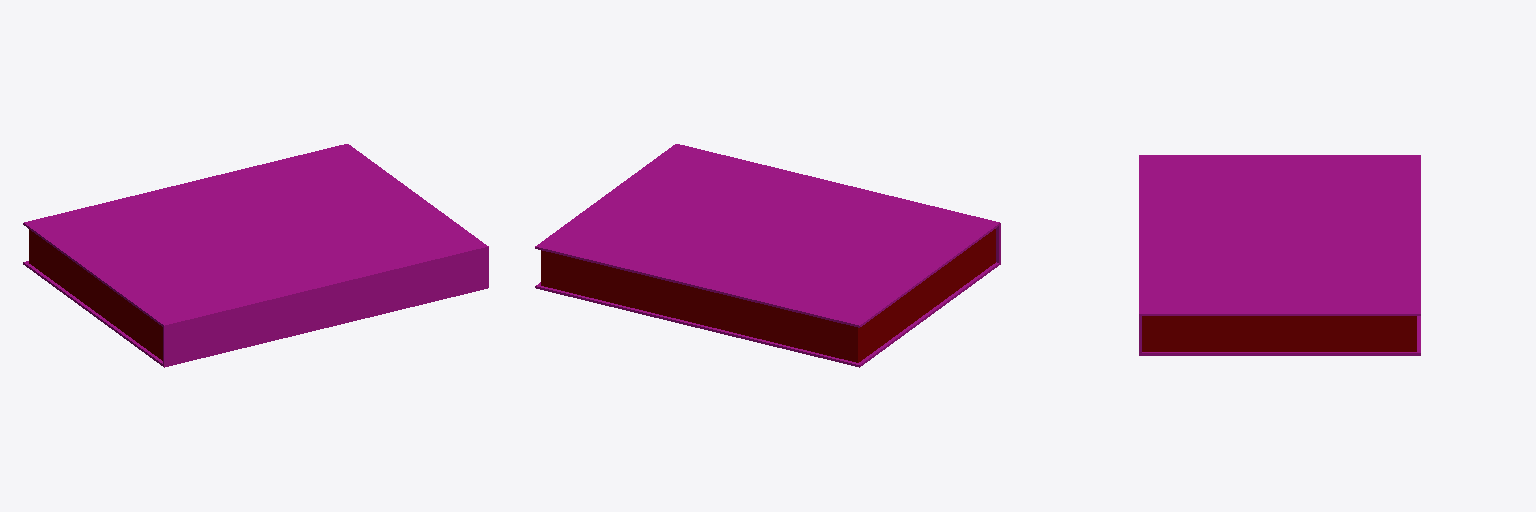
File: book.obj
3 renders of one model, left to right at view 1: azimuth 30°, elevation 25°; view 2: azimuth 150°, elevation 25°; view 3: azimuth 270°, elevation 25°, orthographic.
Parts seen in each view (by area): view 1: book2; view 2: book2; view 3: book2.
Part boxes in pixels (x1,y1,x2,y2): book2: (23,144,488,367); book2: (535,144,1000,367); book2: (1139,155,1420,355).
Bounding box in the file's own units: 359 × 45.36 × 270.